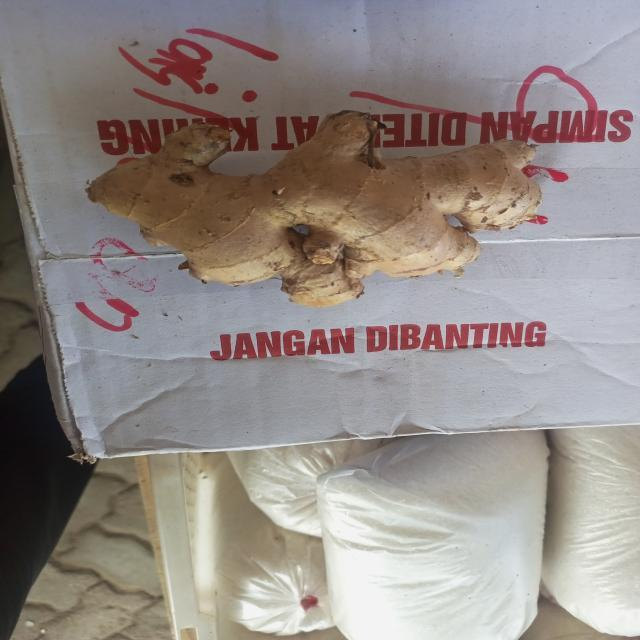ginger: (90, 114, 538, 296)
